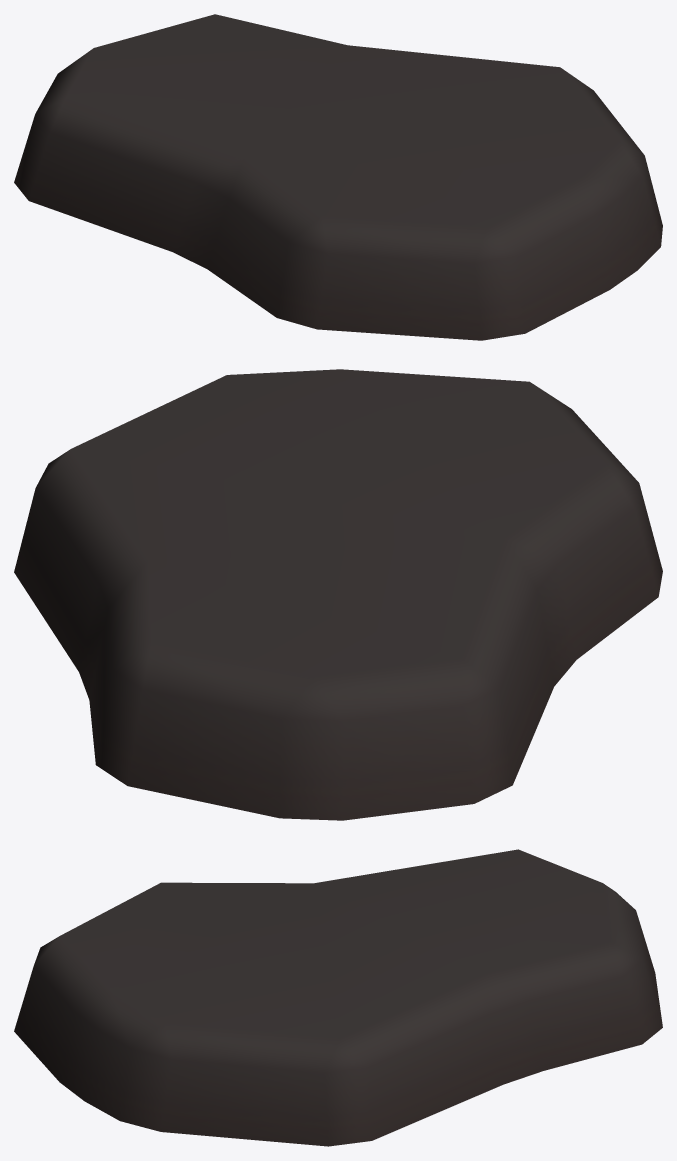
Rendered from Stone_001.glb.
3 views of the same model, one above another, from view 1: azimuth 30°, elevation 25°; view 2: azimuth 150°, elevation 25°; view 3: azimuth 270°, elevation 25° (orthographic). The views are drawn at different scales.
Parts seen in each view (by area): view 1: Stone_001; view 2: Stone_001; view 3: Stone_001.
Part boxes in pixels (box(x1,y1,x2,y2)): Stone_001: box(14, 14, 662, 340); Stone_001: box(14, 369, 662, 820); Stone_001: box(14, 849, 662, 1146).
Size of the model in its own units: 4.41 by 0.8108 by 5.34.
Materials: 1 (1 with a texture image).
